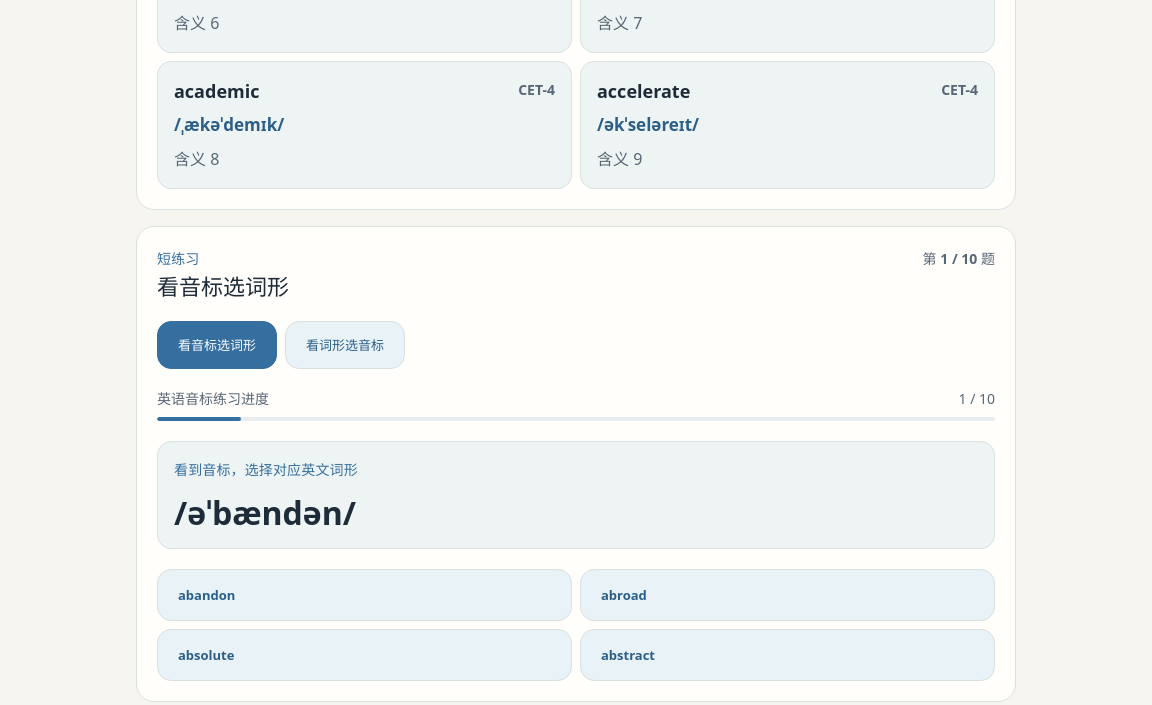
Test: IpaPracticePage › switches to word-to-IPA mode and accepts the correct phonetic option
(page scrolled)
Click the button "看词形选音标". click: (345, 345)
box: [285,321,405,369]
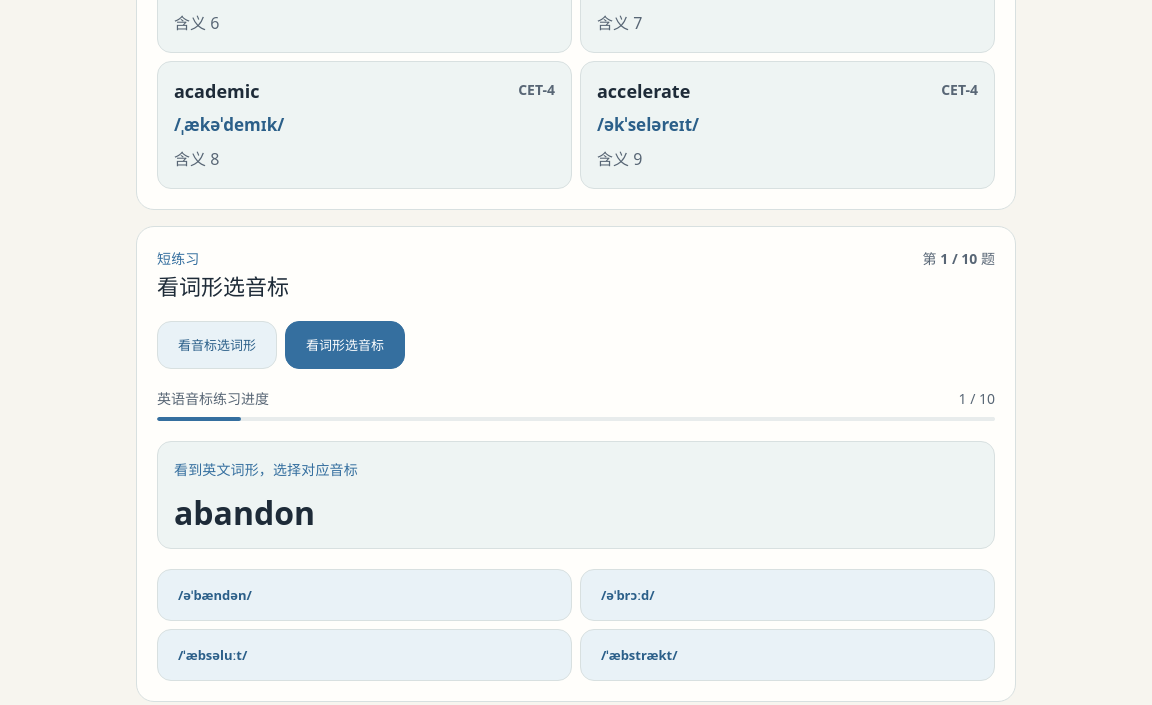
Expected: the heading "看词形选音标" is shown, [157,271,289,301]
Click the button "/əˈbændən/". click: (215, 595)
box: [157,569,572,621]
(page scrolled)
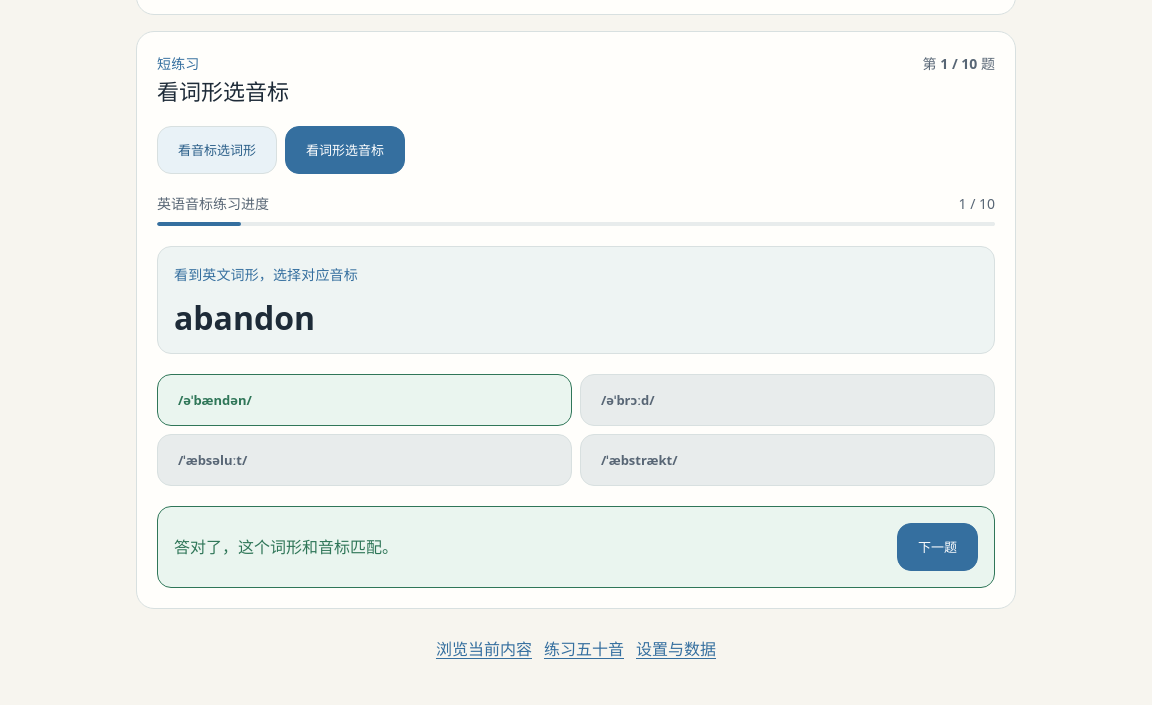
Expected: the text "答对了，这个词形和音标匹配。" is shown, [174,535,398,559]
